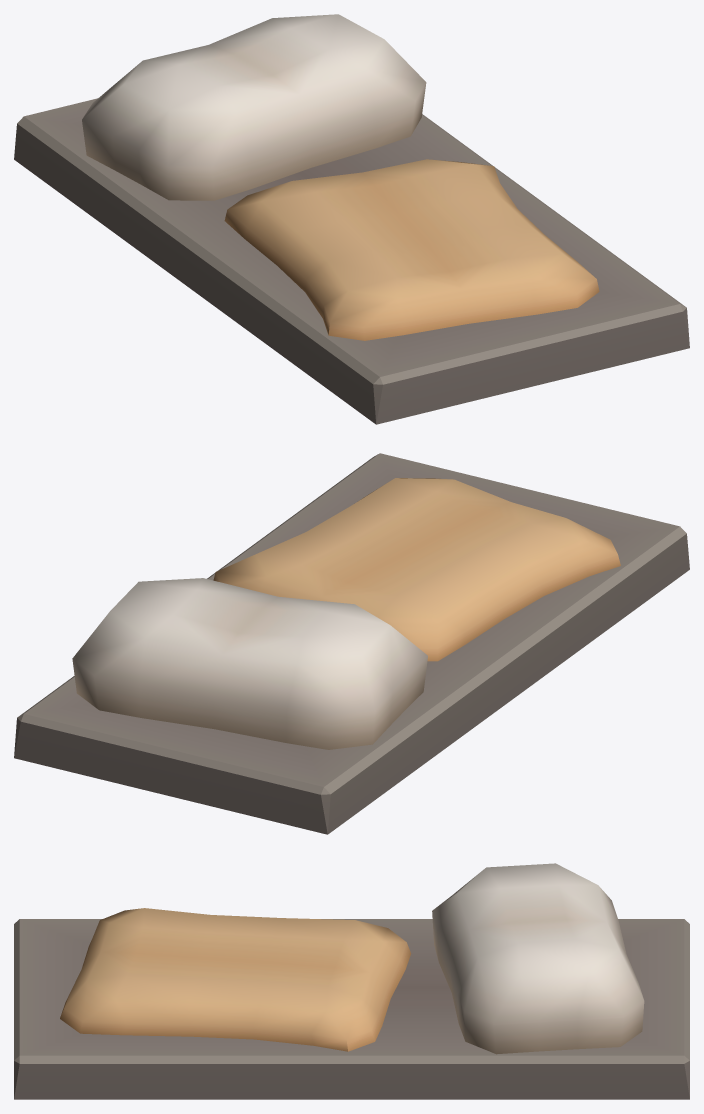
File: d_kaykit_couchage.glb
The picture shows the model from 3 angles, top to bottom: view 1: azimuth 30°, elevation 25°; view 2: azimuth 150°, elevation 25°; view 3: azimuth 270°, elevation 25°; orthographic projection. The views are drawn at different scales.
Parts seen in each view (by area): view 1: d_kaykit_couchage; view 2: d_kaykit_couchage; view 3: d_kaykit_couchage.
Boxes of the visible parts, box(x1,y1,x2,y2) form: d_kaykit_couchage: box(14, 14, 689, 424); d_kaykit_couchage: box(14, 453, 689, 834); d_kaykit_couchage: box(14, 863, 689, 1099).
Bounding box in the file's own units: 1.5 × 0.5625 × 3.
1 material, 1 textured.
